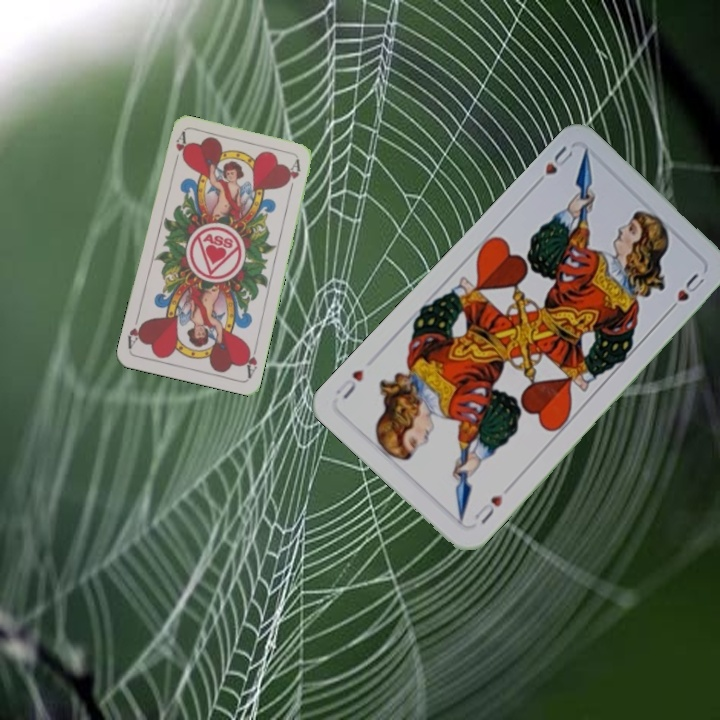HA: (240, 339, 260, 380), (170, 129, 188, 169)
HU: (529, 141, 579, 190), (470, 490, 506, 527)
